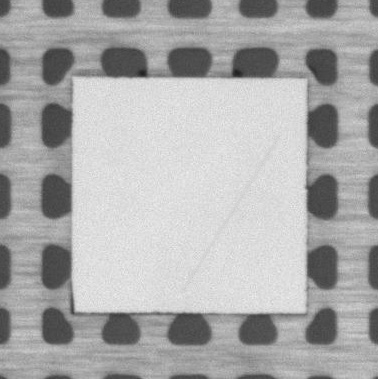DIE_CRACK: (183, 136, 278, 292)
